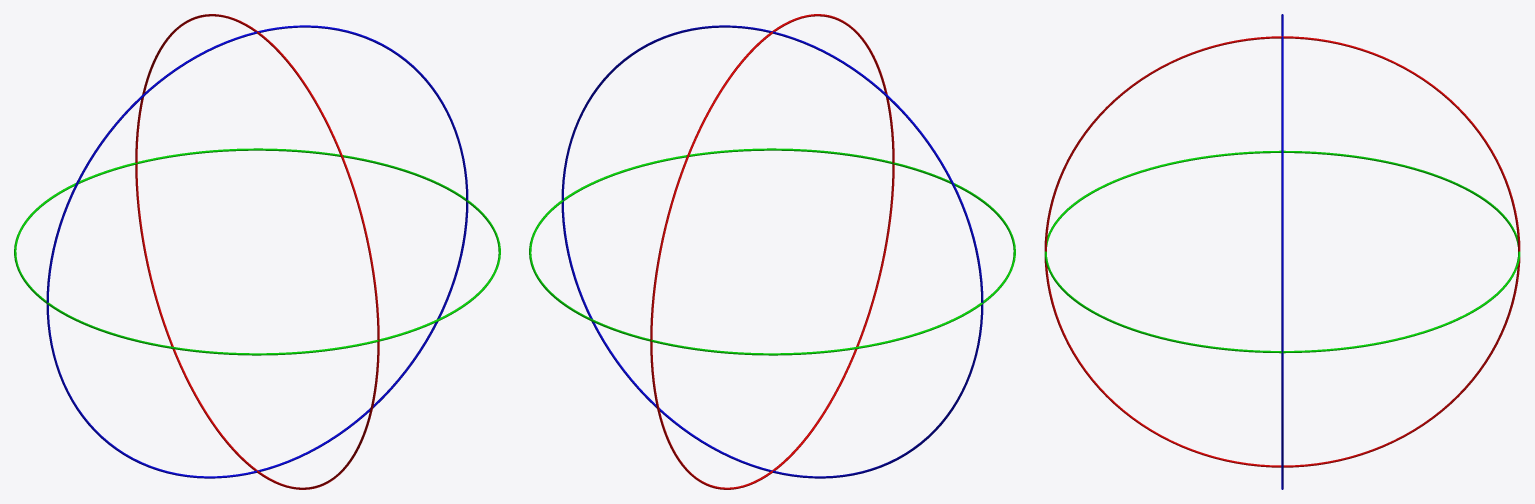
Rendered from Handle_Rotation.fbx.
3 renders of one model, left to right at view 1: azimuth 30°, elevation 25°; view 2: azimuth 150°, elevation 25°; view 3: azimuth 270°, elevation 25°, orthographic. The views are drawn at different scales.
Visible parts, largest first — view 1: Handle_Rotation; view 2: Handle_Rotation; view 3: Handle_Rotation.
Part boxes in pixels (<box>): Handle_Rotation: <box>14,14,500,489</box>; Handle_Rotation: <box>529,14,1015,489</box>; Handle_Rotation: <box>1044,14,1520,489</box>.
Size of the model in its own units: 2 by 2 by 2.
